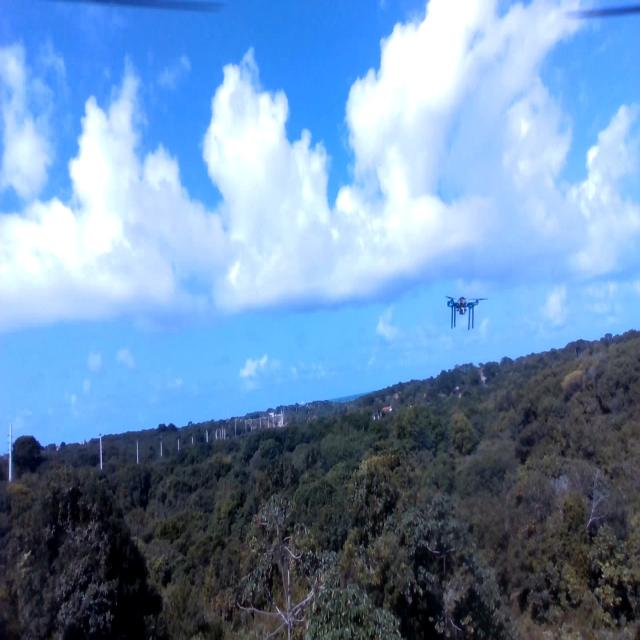-uav-: (437, 287, 492, 337)
